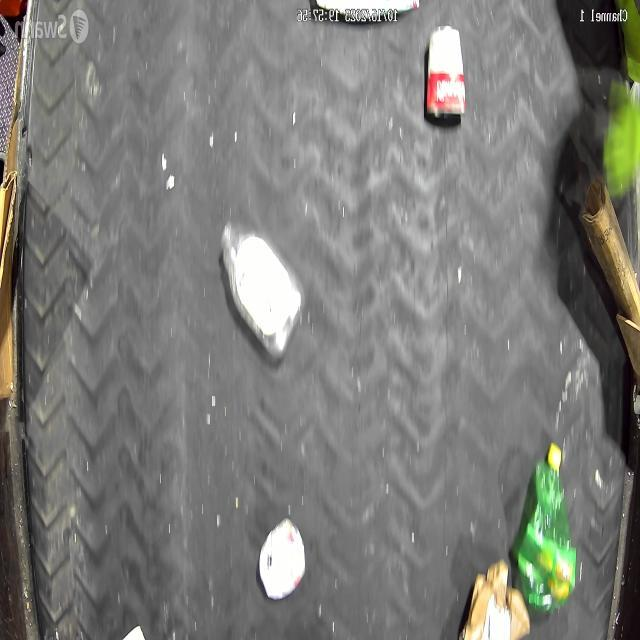can: (422, 22, 466, 128)
plastic_bottle: (508, 438, 578, 618)
